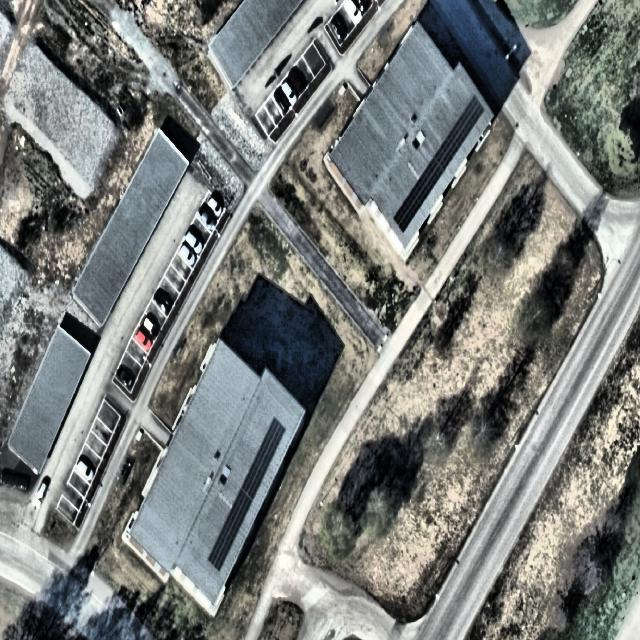roof_pv: (205, 486, 252, 577), (242, 412, 290, 498), (390, 158, 438, 234), (436, 93, 484, 168)
